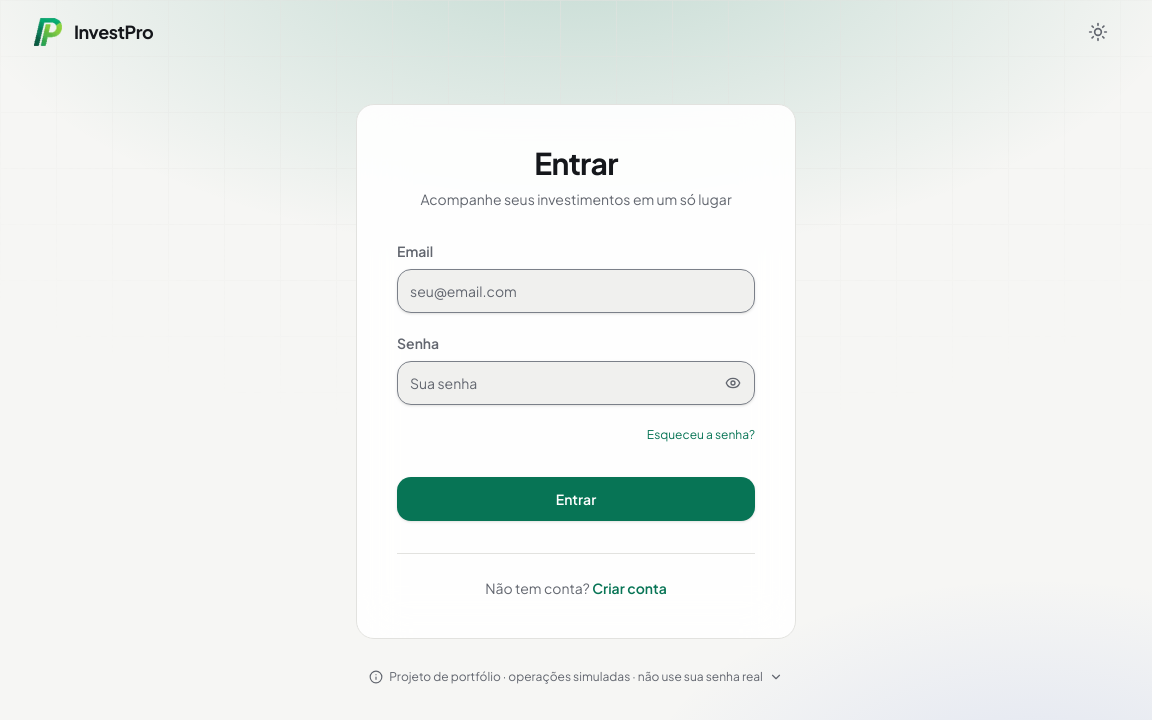
Test: login: outros erros não são tratados como limite de tentativas › credenciais inválidas continuam mostrando a mensagem do servidor
The image size is (1152, 720).
Type "ana@example.com" into the field labelled "Email" at [576, 291], box [397,269,755,313]
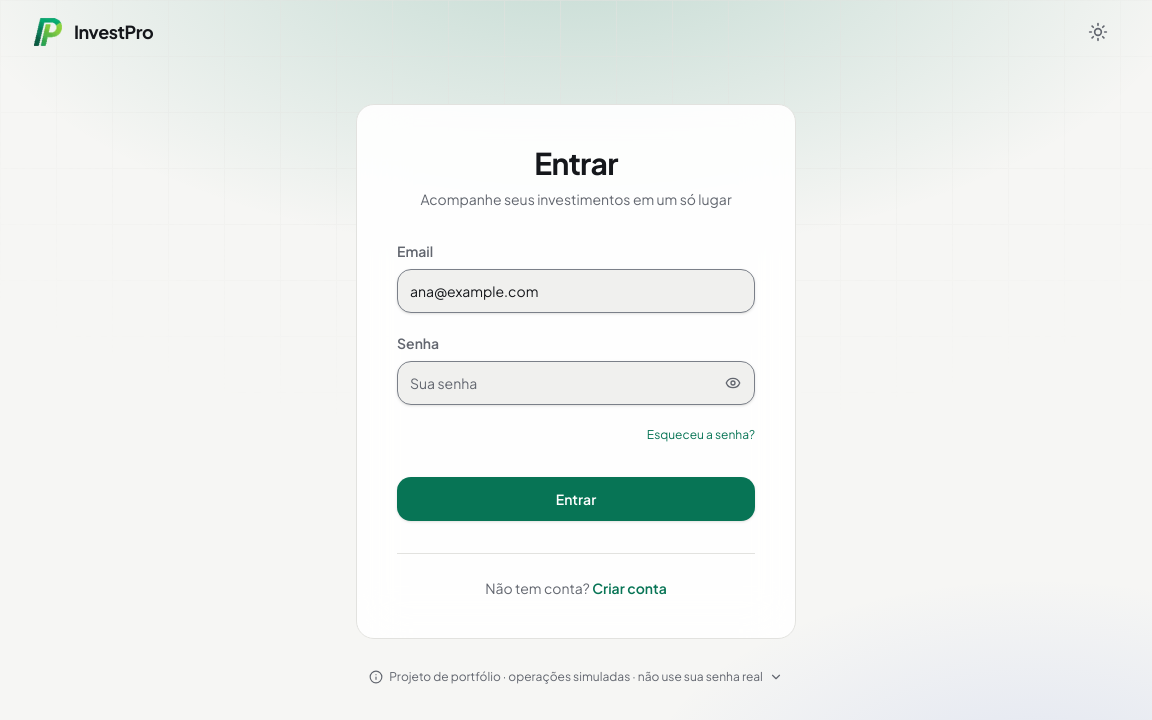
Type "Senha#1234" into the password field labelled "Senha" at [576, 383], box [397,361,755,405]
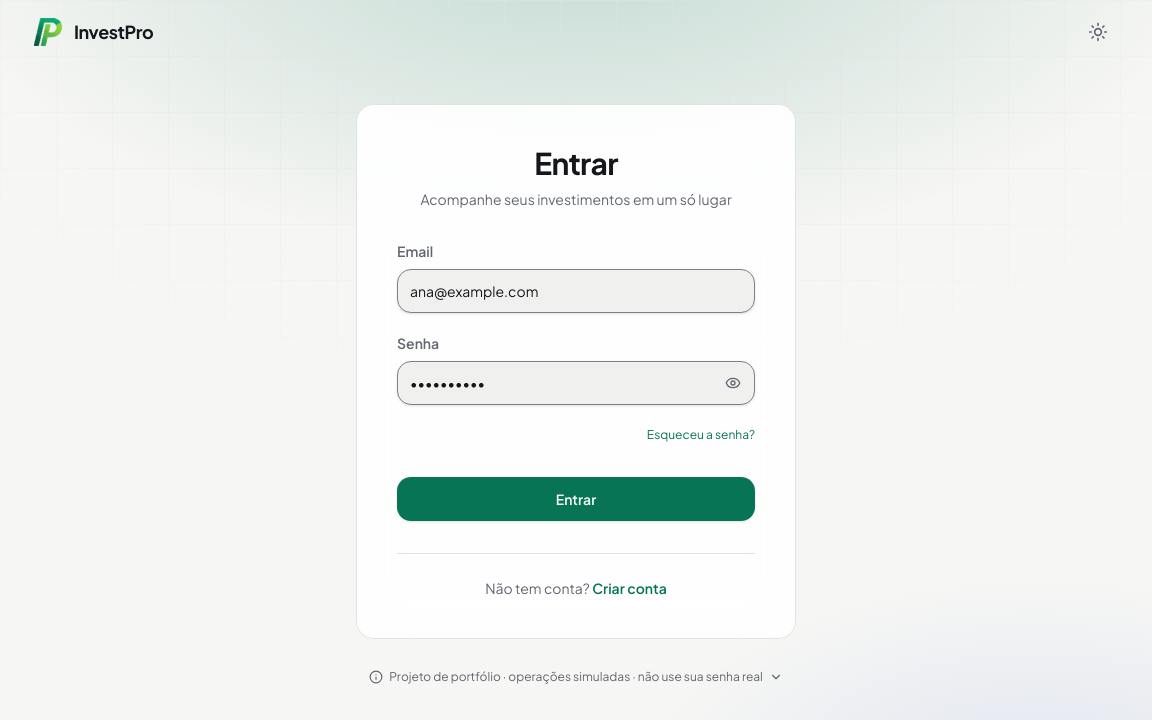
Click the button "Entrar" at [576, 499], box [397,477,755,521]
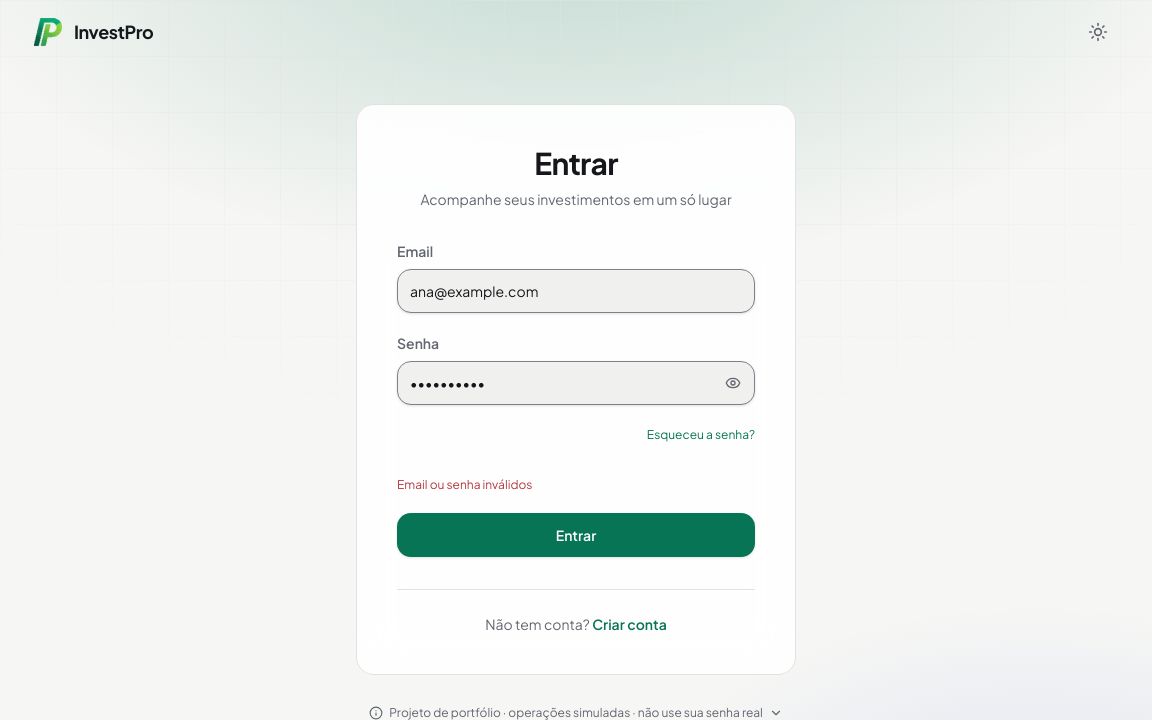
Now the text "Email ou senha inválidos" is shown, box [397,477,532,492]
